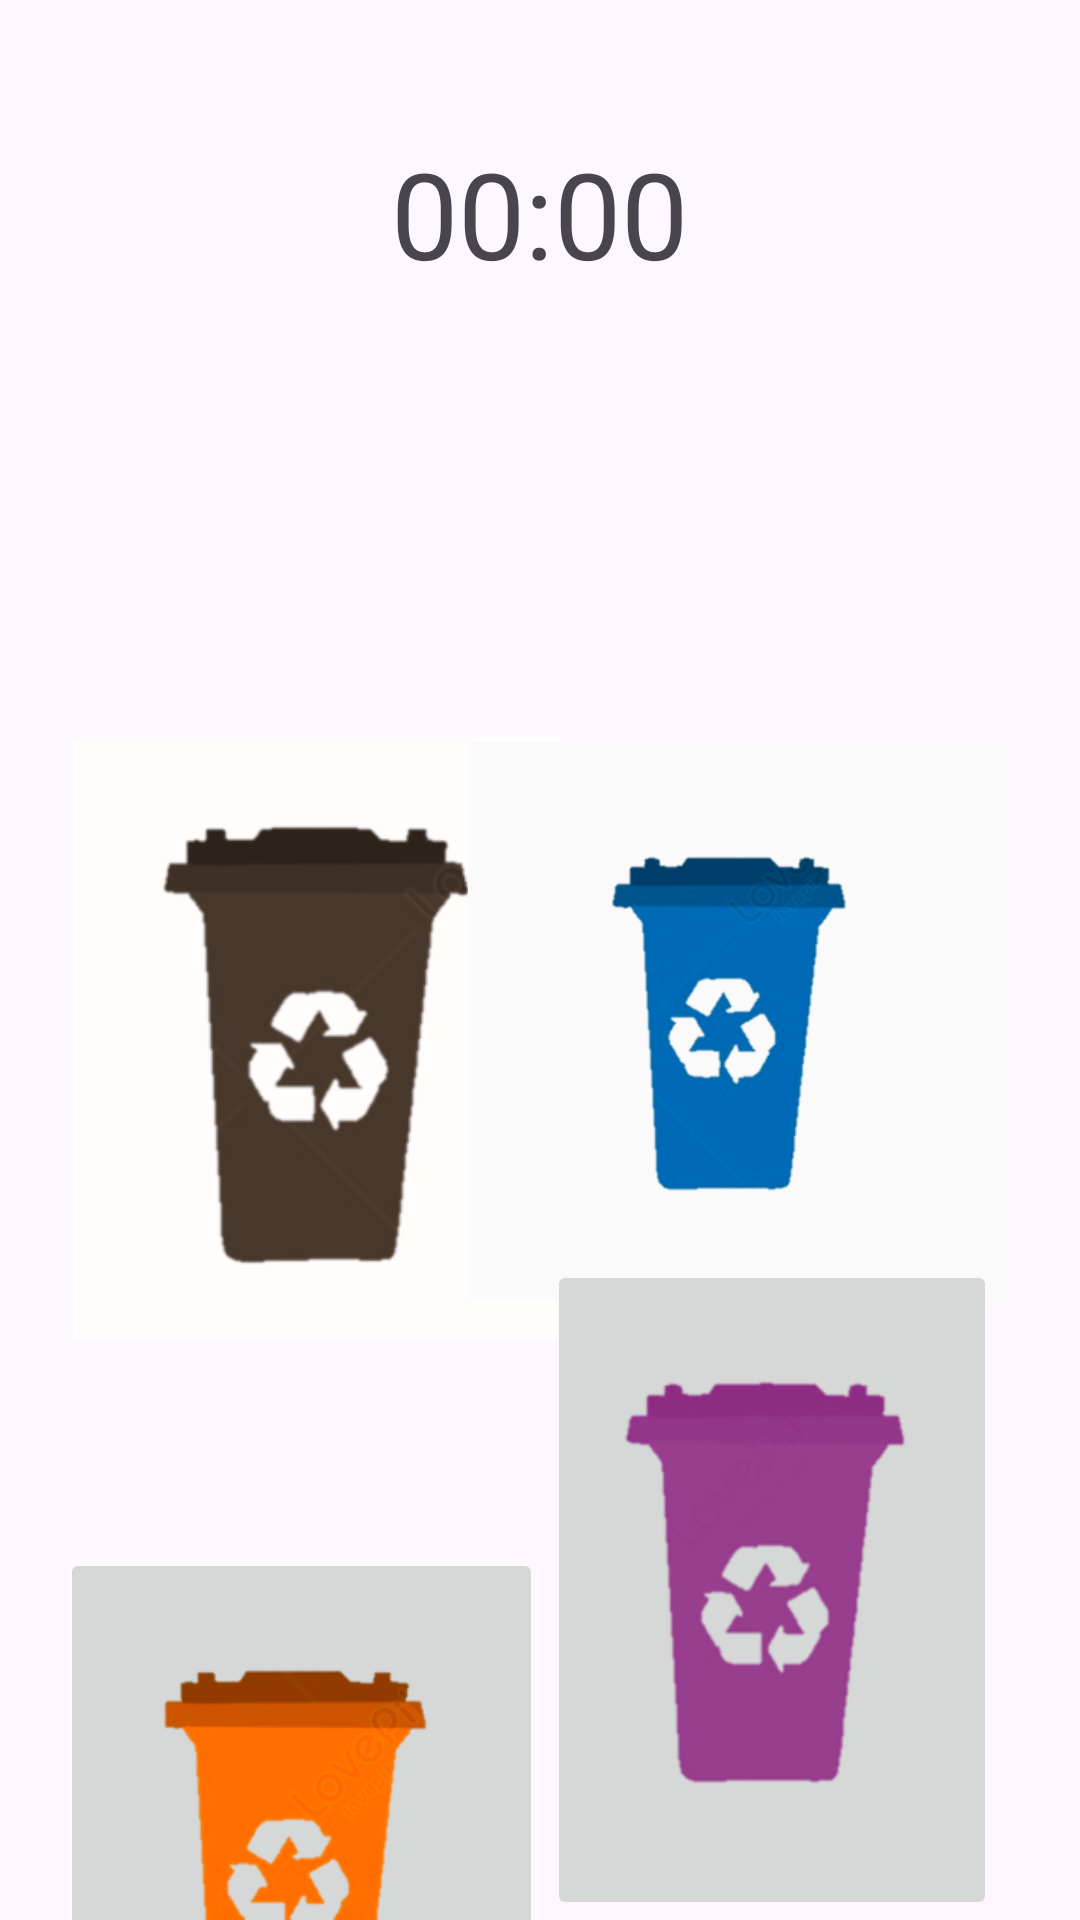

Where icons sit on this 1080px x 1920px app screen, as (x1, y1, x2, y2):
bluebin: (612, 857, 846, 1191)
